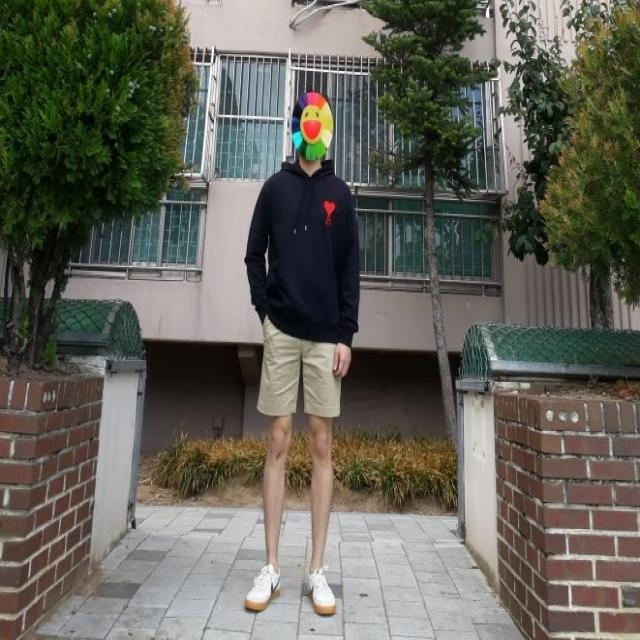hoodies: (245, 146, 360, 348)
shortpants: (257, 320, 343, 418)
